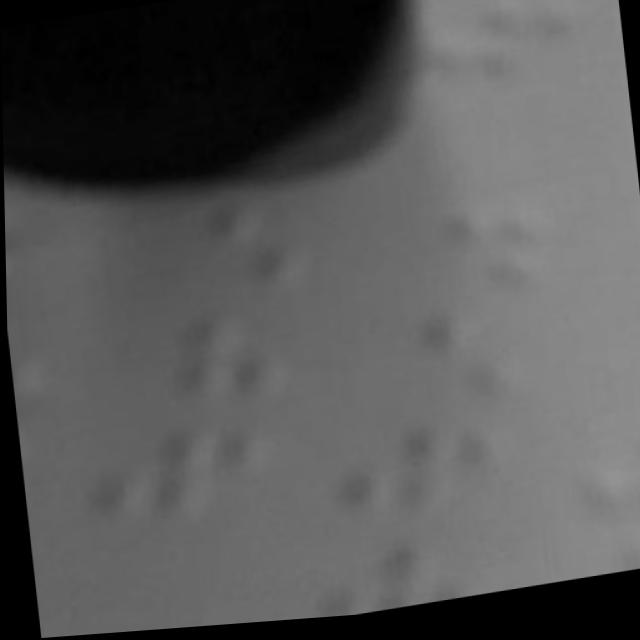braiile: (71, 399, 297, 543), (341, 190, 573, 318), (308, 403, 527, 537), (333, 300, 548, 429), (92, 300, 307, 426), (296, 523, 499, 623), (406, 0, 594, 104), (437, 0, 606, 1)
